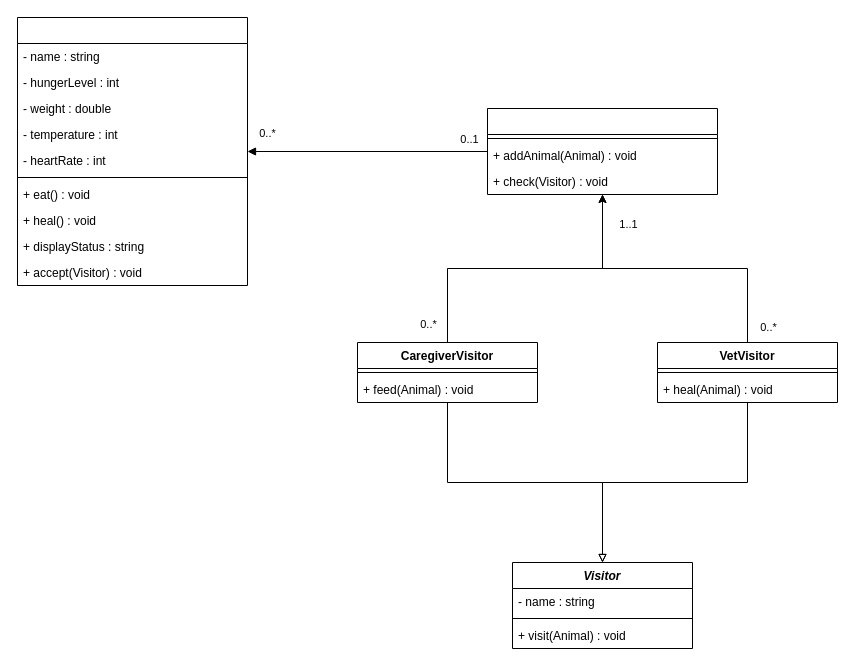
Some shapes in this 855 by 669 pixel diagram are drawn without their labels. Each missing label, with the box of its shape:
Animal: (16, 16, 248, 286)
CareCenter: (486, 108, 718, 194)
